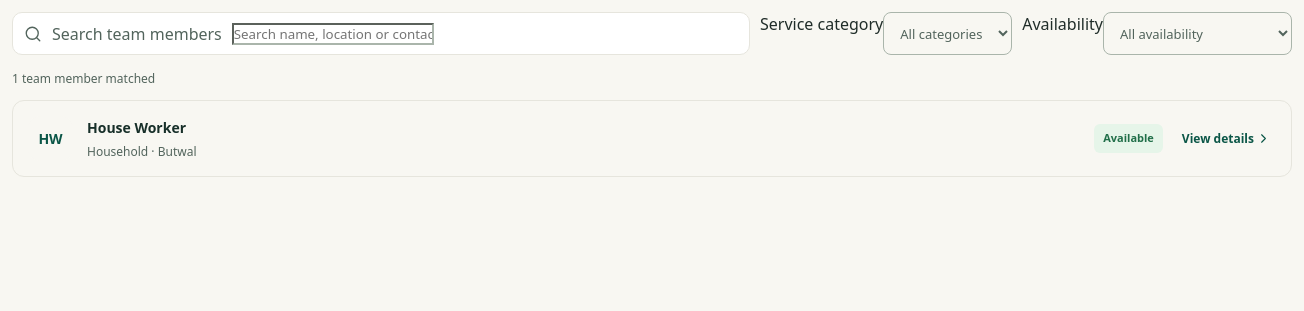
organization workspace redesign › staff filters match the canonical household vendor category
The image size is (1304, 311).
Select "Household" in the dropdown labelled "Service category": (948, 34) left=883, top=12, right=1012, bottom=55
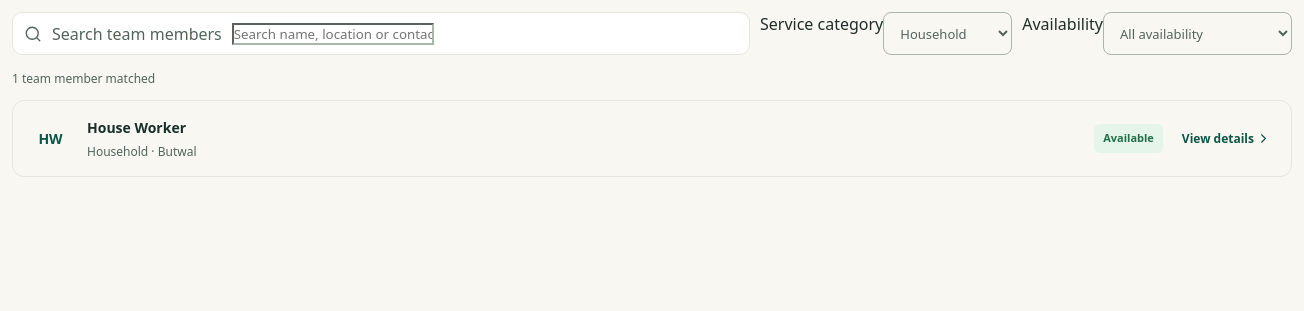
Expected: the text "House Worker" is shown, left=87, top=118, right=186, bottom=136
Select "Caregiving" in the dropdown labelled "Service category": (948, 34) left=883, top=12, right=1012, bottom=55
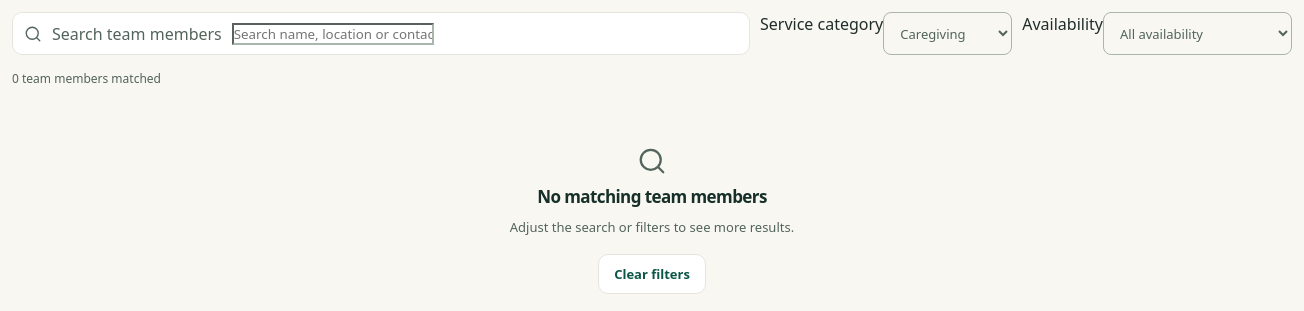
Expected: the heading "No matching team members" is shown, left=537, top=184, right=767, bottom=210
